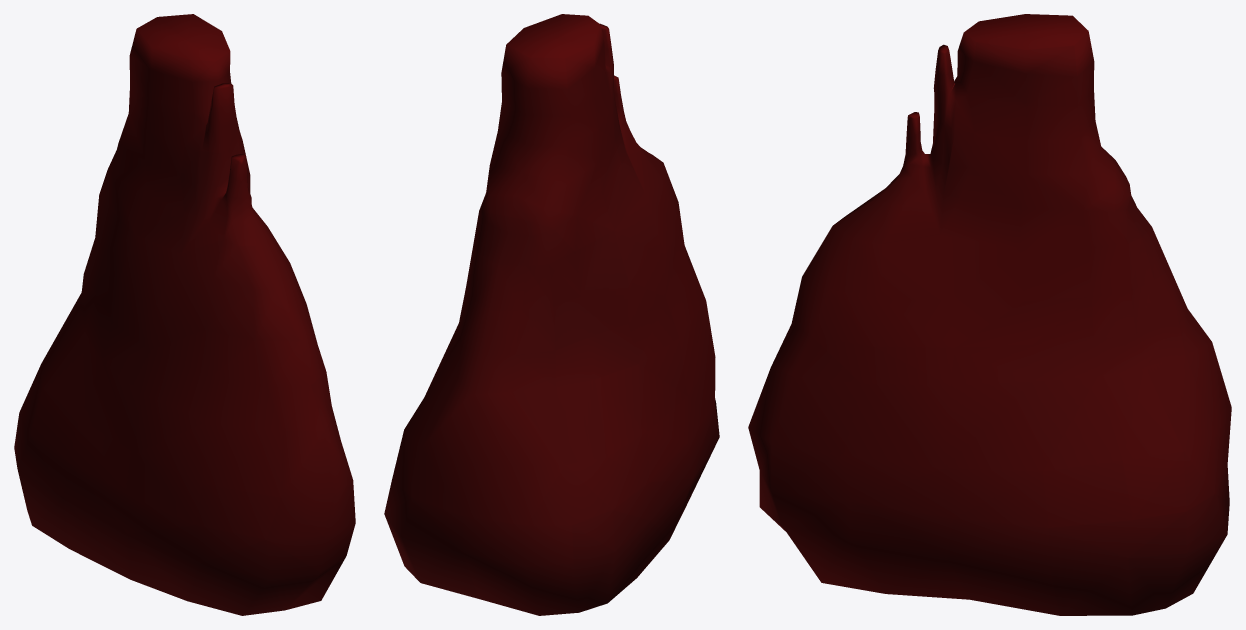
The model's file is geology-landforms-rockcanyonhuge_v4.fbx.
3 renders of one model, left to right at view 1: azimuth 30°, elevation 25°; view 2: azimuth 150°, elevation 25°; view 3: azimuth 270°, elevation 25°, orthographic. The views are drawn at different scales.
Parts seen in each view (by area): view 1: RockCanyonHuge_v4; view 2: RockCanyonHuge_v4; view 3: RockCanyonHuge_v4.
Part boxes in pixels (x1,y1,x2,y2): RockCanyonHuge_v4: [14, 14, 355, 615]; RockCanyonHuge_v4: [384, 14, 719, 615]; RockCanyonHuge_v4: [748, 14, 1231, 615].
Bounding box in the file's own units: 28.56 × 57.67 × 47.44.
